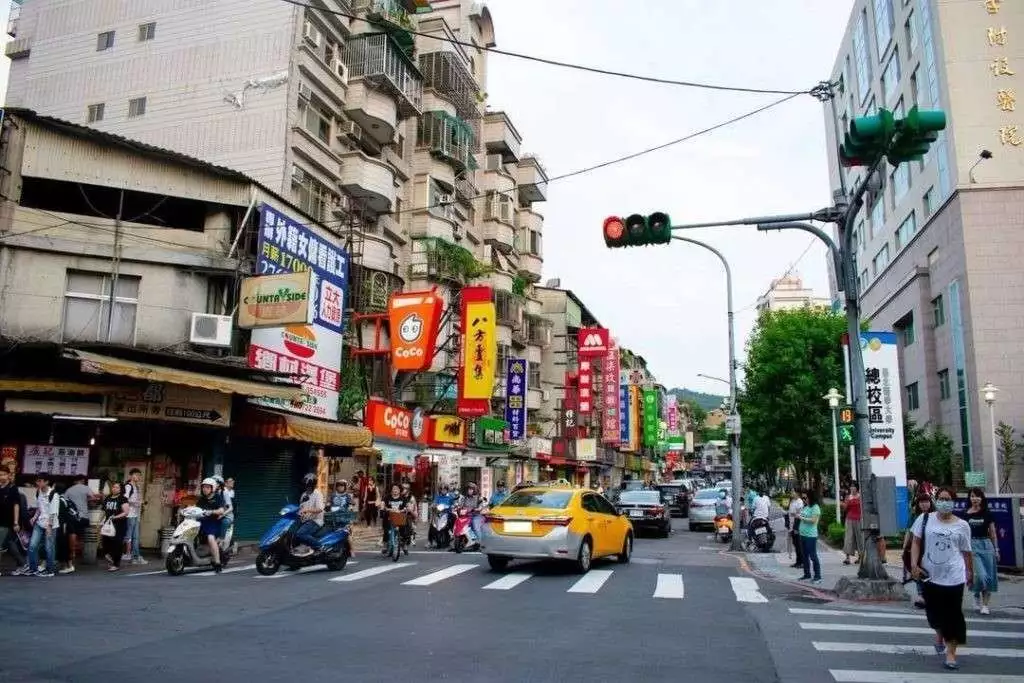car: (482, 484, 637, 572)
pedestrian: (912, 487, 972, 666), (791, 490, 824, 577)
scooter: (260, 505, 358, 568), (169, 511, 238, 576)
